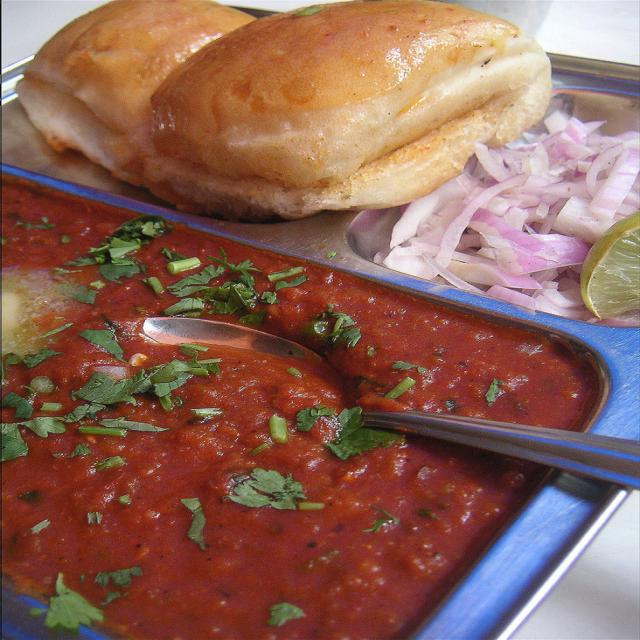pav_bhaji: (10, 3, 592, 605)
